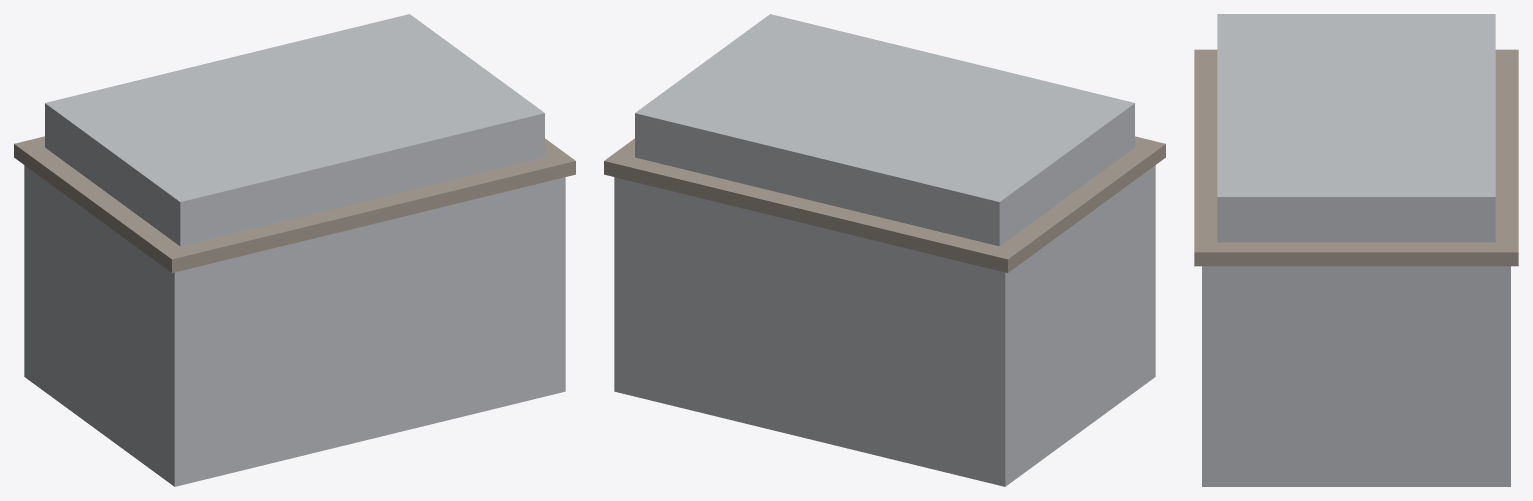
The model's file is storage_shed.glb.
3 renders of one model, left to right at view 1: azimuth 30°, elevation 25°; view 2: azimuth 150°, elevation 25°; view 3: azimuth 270°, elevation 25°, orthographic. The views are drawn at different scales.
Visible parts, largest first — view 1: storage_shed; view 2: storage_shed; view 3: storage_shed.
Boxes of the visible parts, x1=… form: storage_shed: x1=14, y1=14, x2=575, y2=486; storage_shed: x1=604, y1=14, x2=1165, y2=486; storage_shed: x1=1194, y1=14, x2=1518, y2=486.
Bounding box in the file's own units: 6.2 × 4.05 × 4.2.
